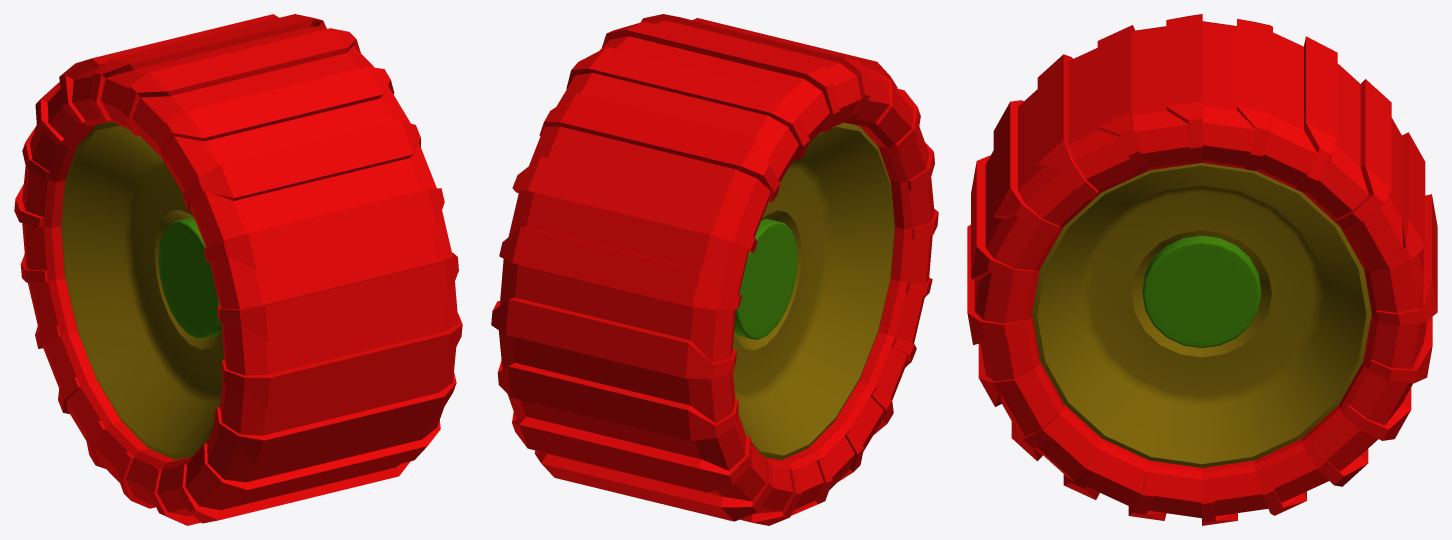
The model's file is Car_LeftRearWheel_V1.fbx.
The picture shows the model from 3 angles, left to right: view 1: azimuth 30°, elevation 25°; view 2: azimuth 150°, elevation 25°; view 3: azimuth 270°, elevation 25°; orthographic projection. The views are drawn at different scales.
Parts seen in each view (by area): view 1: polySurface8, polySurface10, polySurface12; view 2: polySurface8, polySurface10, polySurface12; view 3: polySurface8, polySurface10, polySurface12.
Part boxes in pixels (x1=…): polySurface8: x1=14, y1=14, x2=462, y2=525; polySurface10: x1=61, y1=121, x2=224, y2=459; polySurface12: x1=158, y1=218, x2=221, y2=339; polySurface8: x1=491, y1=14, x2=938, y2=525; polySurface10: x1=732, y1=122, x2=894, y2=460; polySurface12: x1=734, y1=219, x2=797, y2=339; polySurface8: x1=967, y1=14, x2=1437, y2=525; polySurface10: x1=1032, y1=163, x2=1371, y2=467; polySurface12: x1=1142, y1=235, x2=1261, y2=347.
Size of the model in its own units: 0.00593 by 0.0104 by 0.0104.
